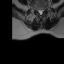CCS_normal: (39, 8, 41, 16)
LFS_stenosis: (43, 6, 45, 12)
LLS_normal: (41, 8, 43, 15)
RFS_normal: (36, 6, 38, 13)
RLS_normal: (38, 8, 39, 14)
